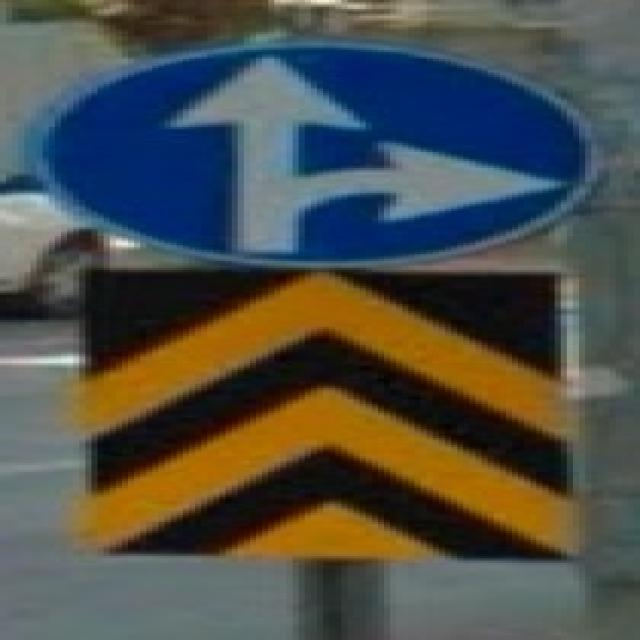Straight or Right: (41, 46, 589, 262)
